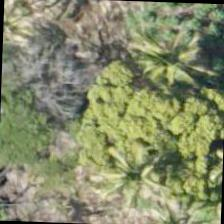Kelapa_Sawit: (127, 14, 220, 108), (88, 124, 180, 216)
